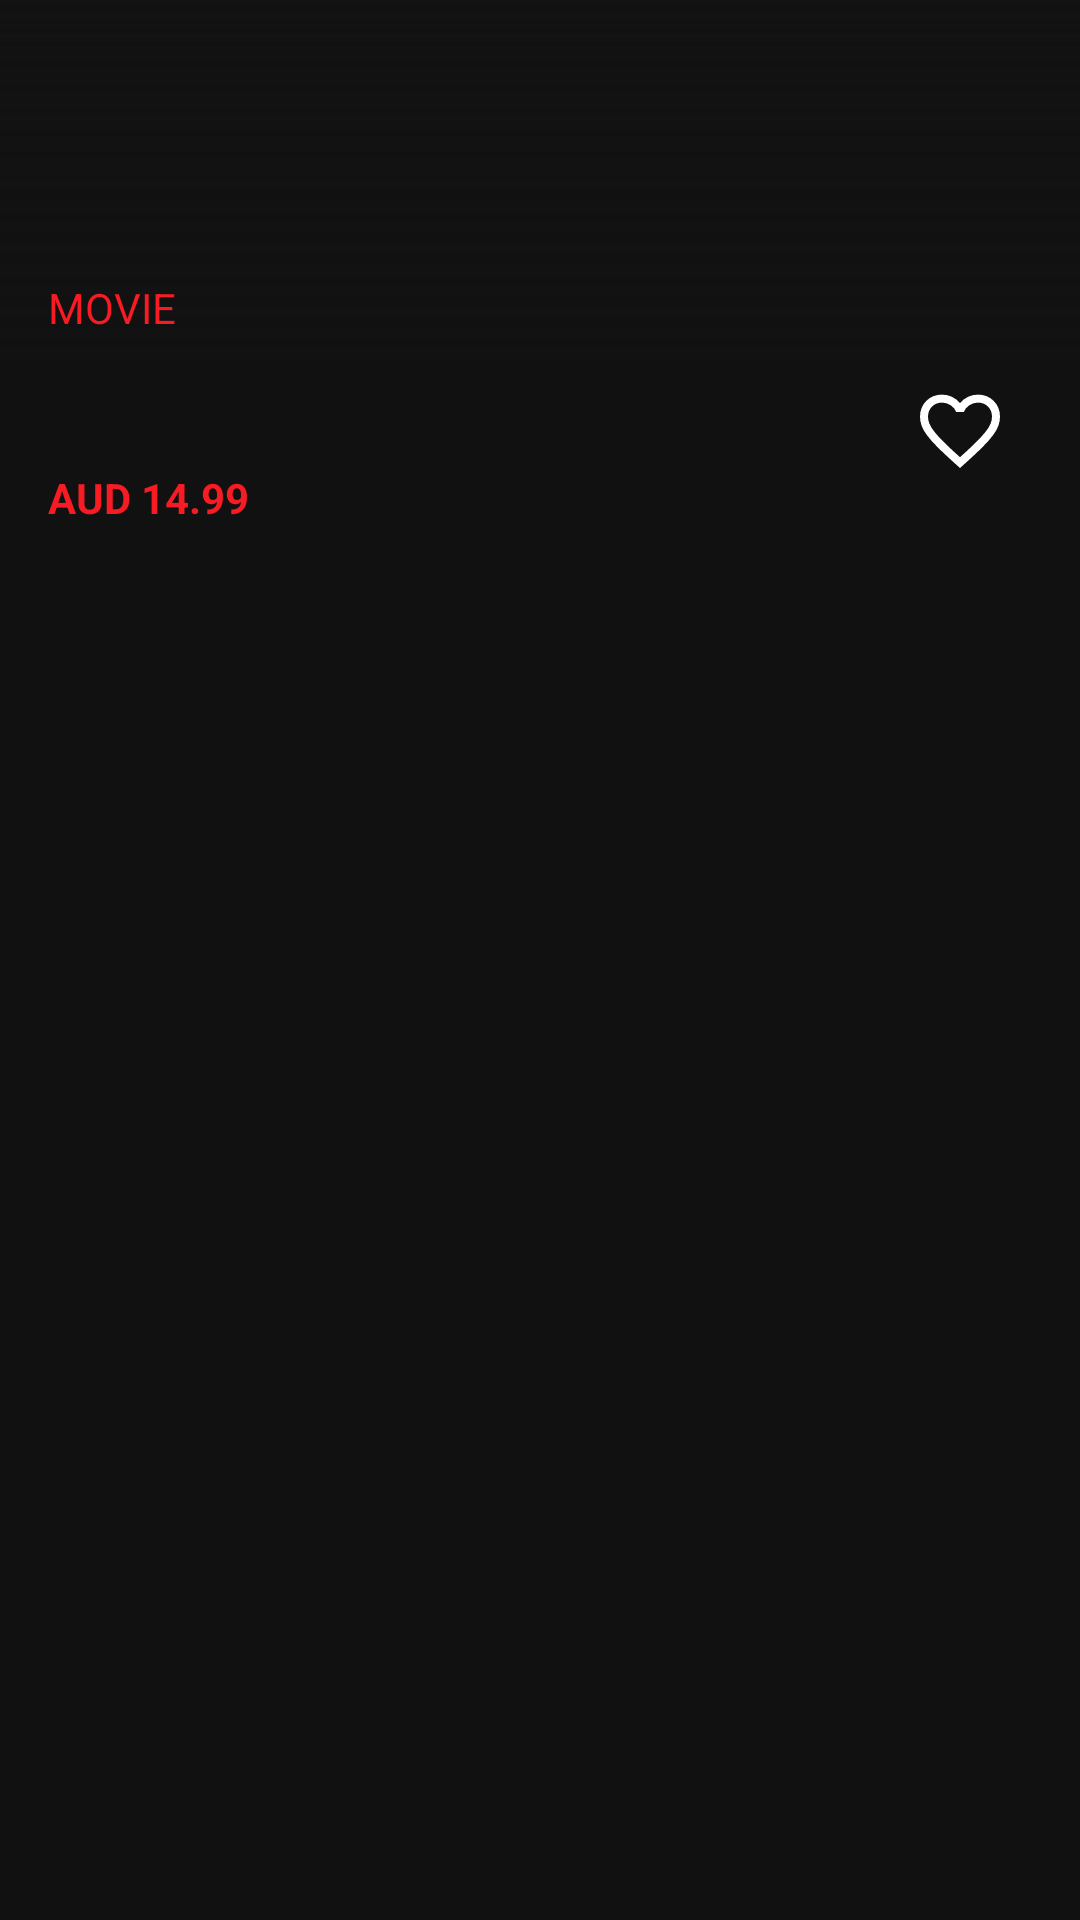

Icon bounding boxes for this 1080px×1920px phone screenshot, format (x1, y1, x2, y2):
unfavorite: (920, 394, 1000, 468)
